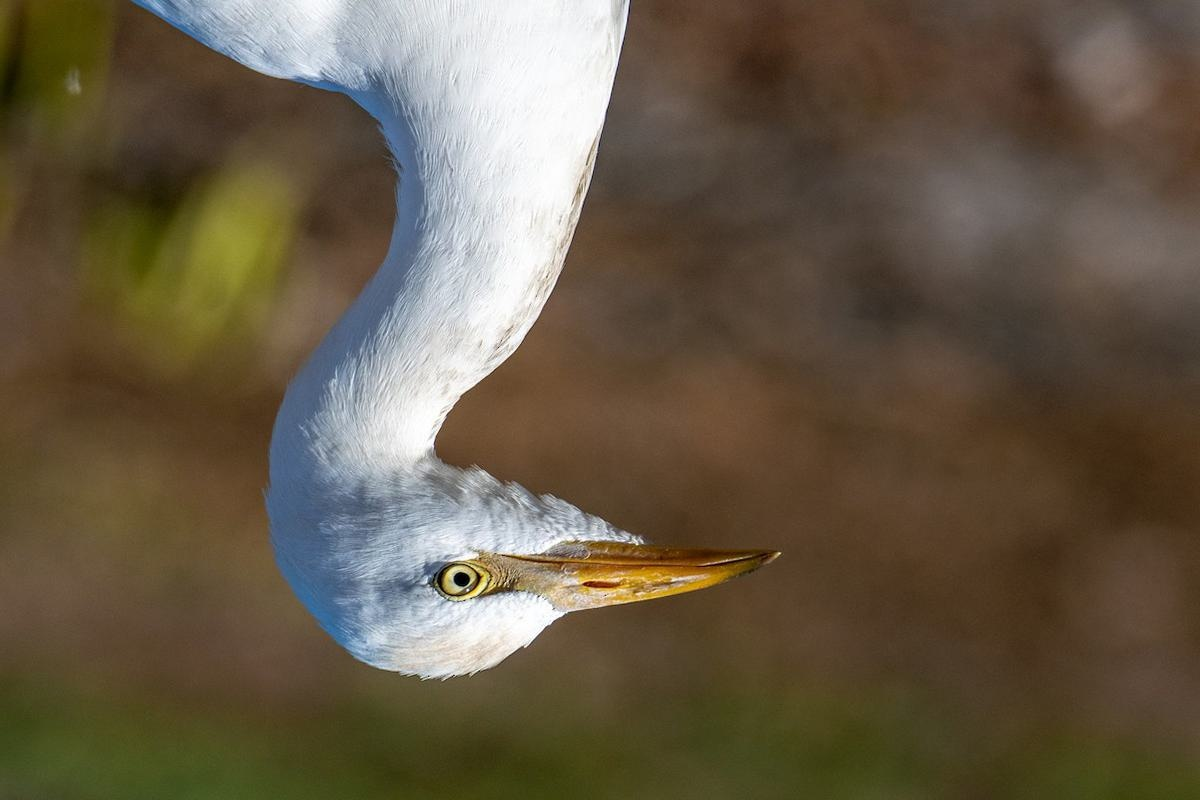egret: (114, 1, 788, 693)
